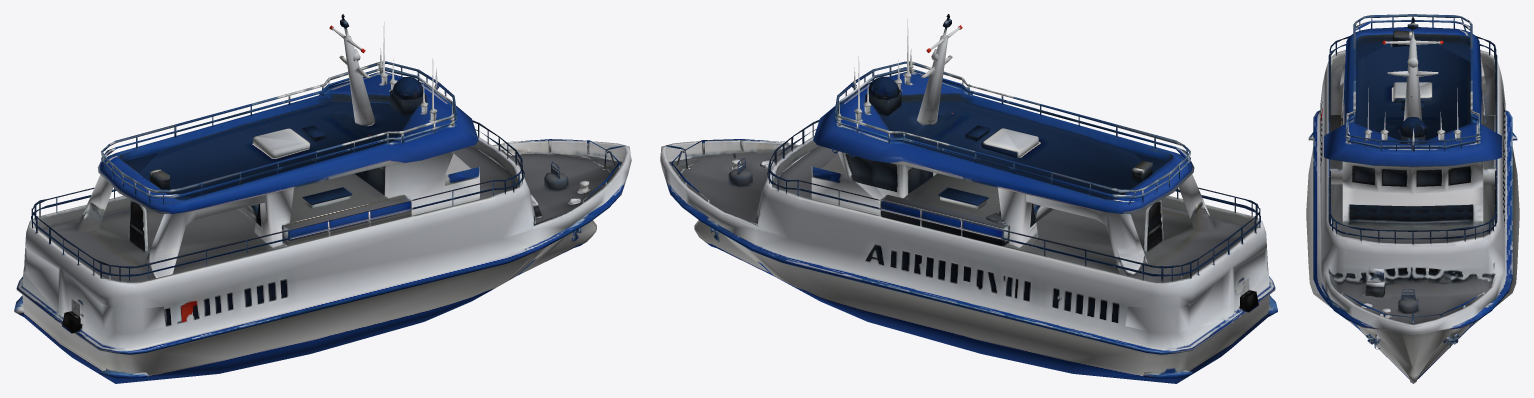
Rendered from tile24.glb.
3 renders of one model, left to right at view 1: azimuth 30°, elevation 25°; view 2: azimuth 150°, elevation 25°; view 3: azimuth 270°, elevation 25°, orthographic. The views are drawn at different scales.
Parts seen in each view (by area): view 1: tripo_node_f988a812-c62d-47be-a0ac-4b907df1e14b; view 2: tripo_node_f988a812-c62d-47be-a0ac-4b907df1e14b; view 3: tripo_node_f988a812-c62d-47be-a0ac-4b907df1e14b.
Boxes of the visible parts, x1,y1,x2,y2 form: tripo_node_f988a812-c62d-47be-a0ac-4b907df1e14b: (14,14,631,383); tripo_node_f988a812-c62d-47be-a0ac-4b907df1e14b: (660,14,1277,383); tripo_node_f988a812-c62d-47be-a0ac-4b907df1e14b: (1306,14,1519,383).
Size of the model in its own units: 0.998 by 0.4863 by 0.3535.
Materials: 1 (1 with a texture image).
